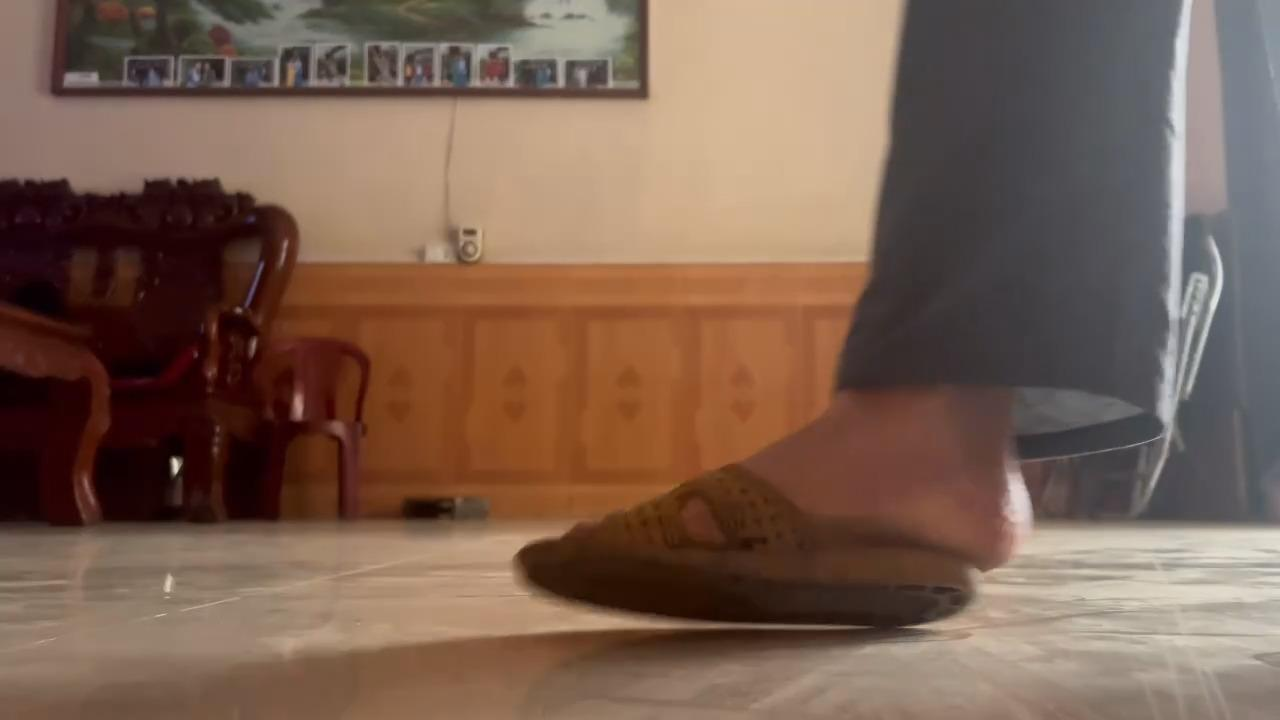no-boot: (502, 435, 1050, 619)
